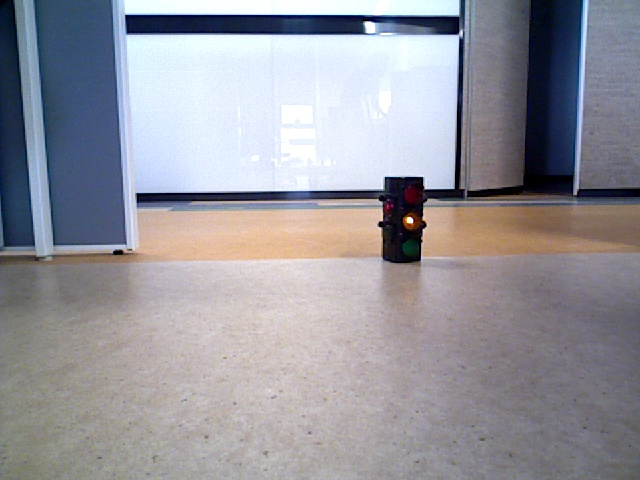yellow: (385, 180, 418, 258)
